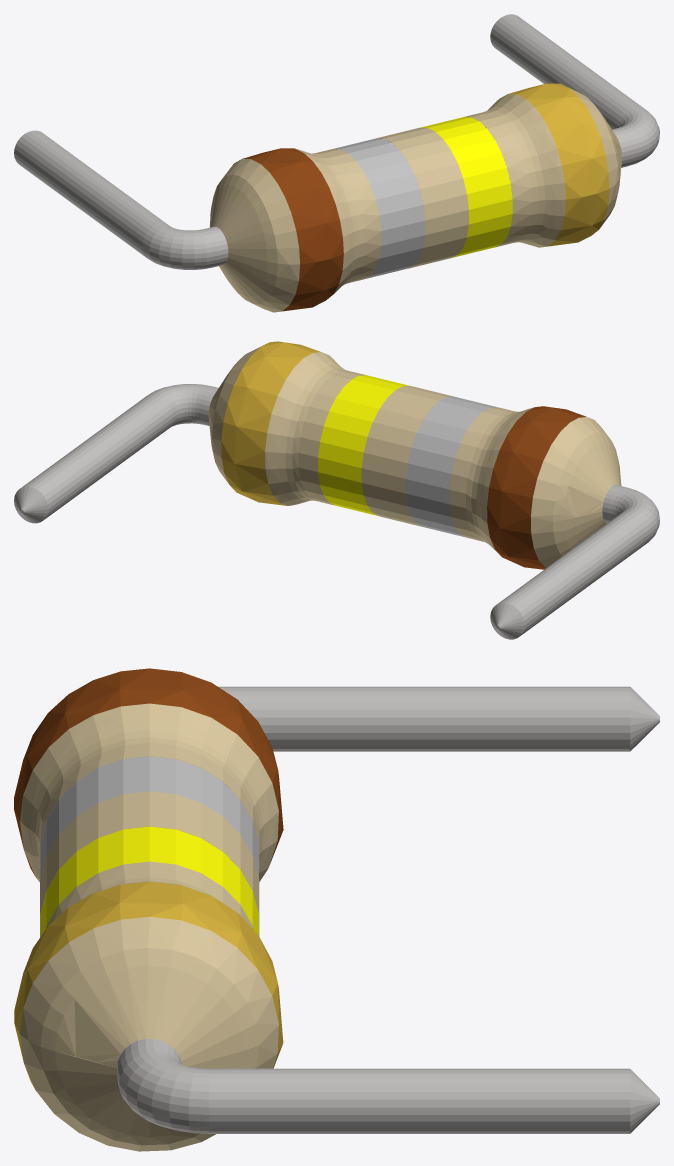
Rendered from Yageo CFR-25 Resistor Axial P7.62mm 180,0 kOhm.obj.
The picture shows the model from 3 angles, top to bottom: view 1: azimuth 30°, elevation 25°; view 2: azimuth 150°, elevation 25°; view 3: azimuth 270°, elevation 25°; orthographic projection. The views are drawn at different scales.
Visible parts, largest first — view 1: Yageo_CFR-25_Resistor_Axial_P7.62mm_180,0_kOhm; view 2: Yageo_CFR-25_Resistor_Axial_P7.62mm_180,0_kOhm; view 3: Yageo_CFR-25_Resistor_Axial_P7.62mm_180,0_kOhm.
Part boxes in pixels (x1,y1,x2,y2): Yageo_CFR-25_Resistor_Axial_P7.62mm_180,0_kOhm: (14, 14, 659, 312); Yageo_CFR-25_Resistor_Axial_P7.62mm_180,0_kOhm: (14, 341, 659, 639); Yageo_CFR-25_Resistor_Axial_P7.62mm_180,0_kOhm: (14, 668, 659, 1151).
Bounding box in the file's own units: 0.0283 × 0.0078 × 0.0188.
